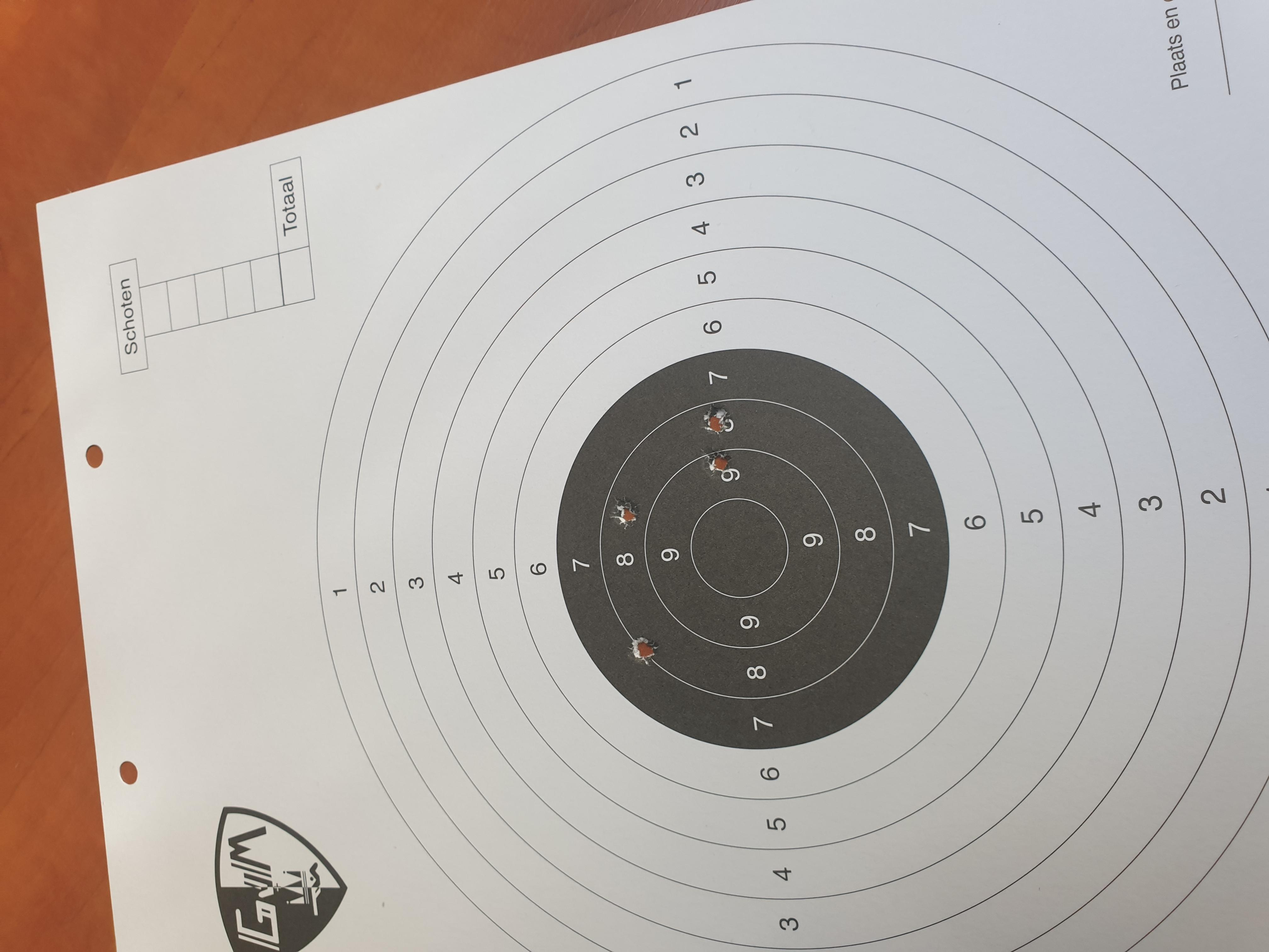hole: (561, 458, 609, 482), (687, 525, 733, 550), (633, 525, 673, 550), (381, 471, 424, 494)
